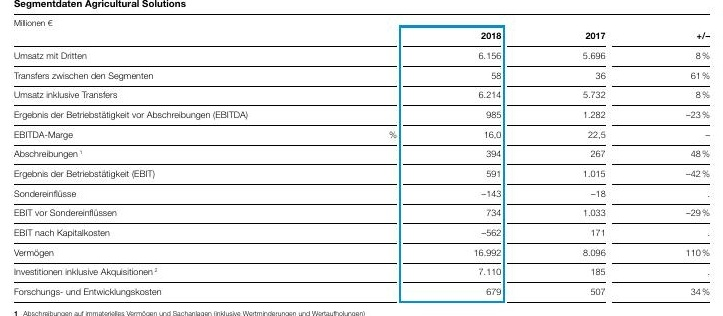table: (0, 0, 723, 316)
